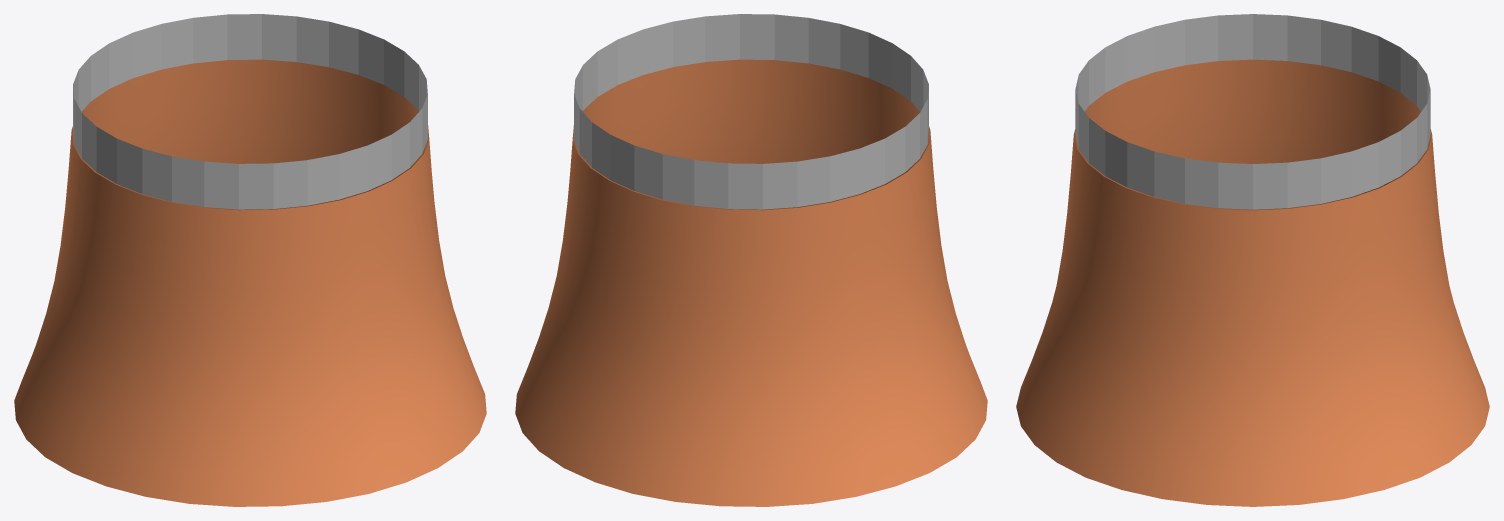
Rendered from arm_base.dae.
3 views of the same model, side by side, from view 1: azimuth 30°, elevation 25°; view 2: azimuth 150°, elevation 25°; view 3: azimuth 270°, elevation 25° (orthographic).
Parts seen in each view (by area): view 1: base; view 2: base; view 3: base.
Part boxes in pixels (left/top/right/bottom): base: left=14, top=14, right=486, bottom=506; base: left=515, top=14, right=987, bottom=506; base: left=1016, top=14, right=1489, bottom=506.
Size of the model in its own units: 0.1601 by 0.1601 by 0.1185.
